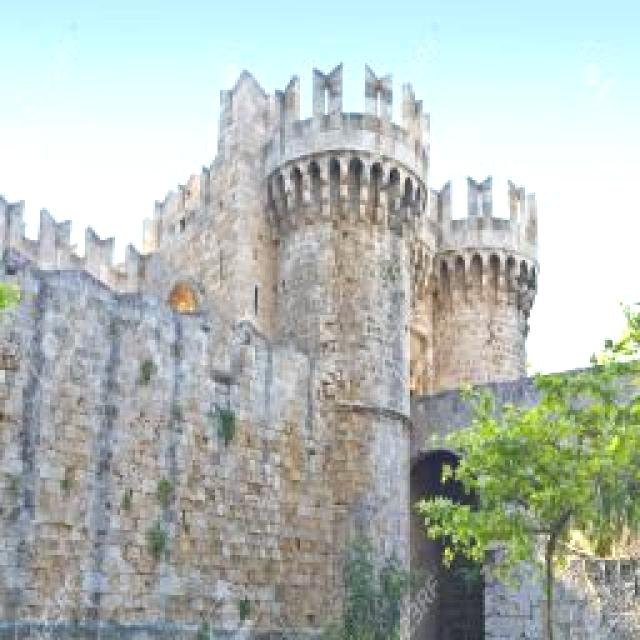dampness: (4, 283, 393, 640)
vegetation: (431, 327, 640, 640)
